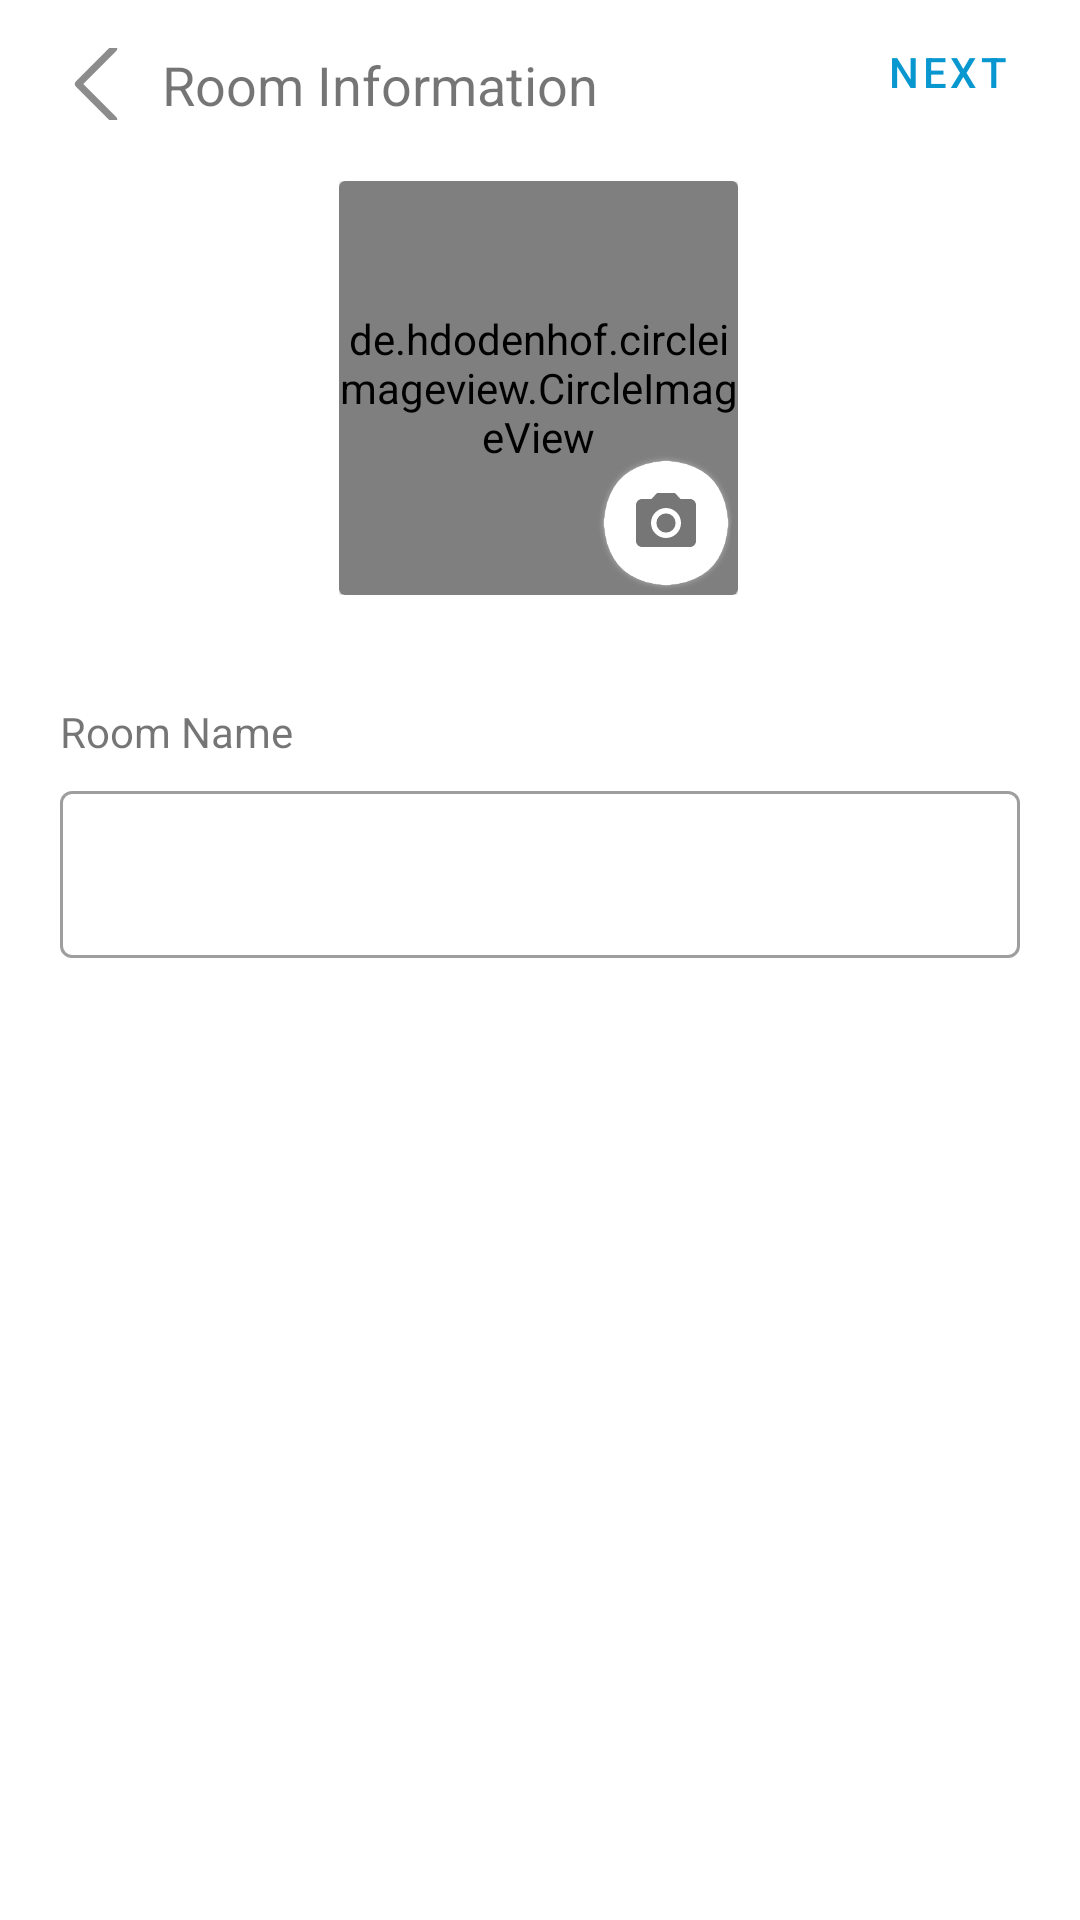

Where to tap for icons on this 1080*1920 app screen, as [x,y]:
left arrow: [96,84]
photo camera: [666,523]
